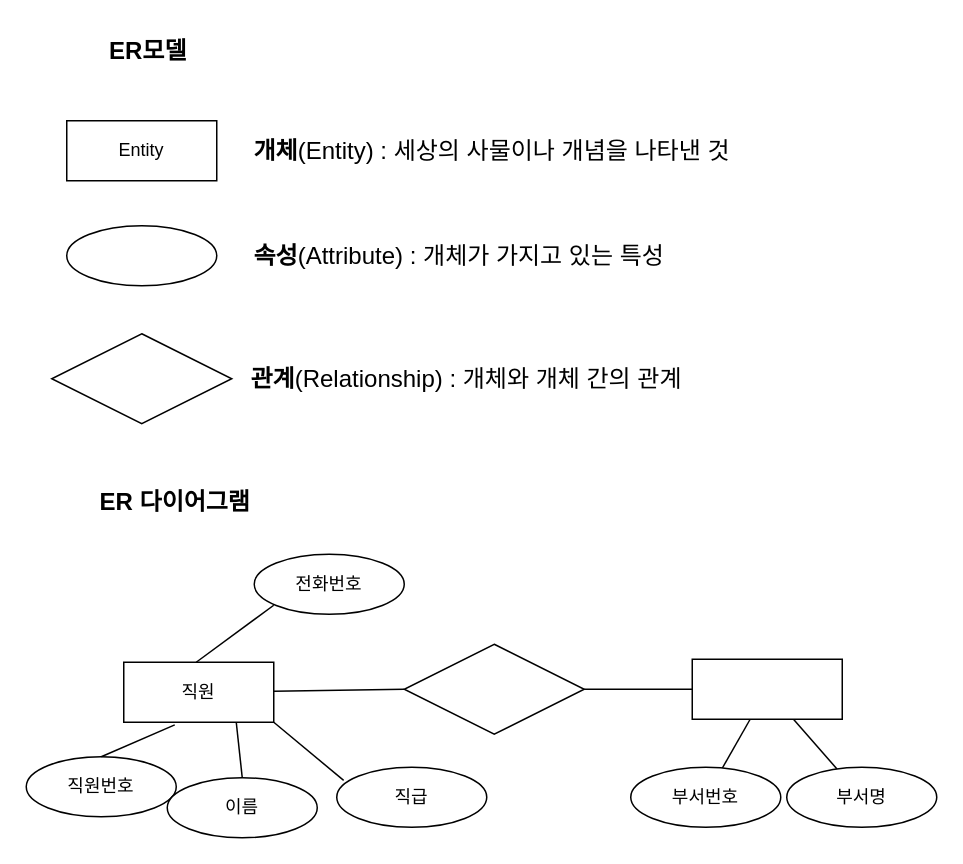
Image size: 963x864. Some labels were removed from this diagram. The box of each missing label's shape, as (x1, y1, x2, y2) in pixels:
Attribute: (65, 224, 217, 286)
Relationship: (50, 332, 232, 424)
부서: (691, 658, 842, 719)
소속: (403, 643, 584, 734)
